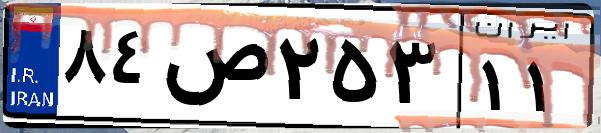1: (475, 38, 525, 113), (525, 38, 570, 115)
2: (270, 28, 330, 110)
3: (385, 28, 445, 110)
4: (110, 28, 158, 98)
5: (330, 28, 385, 110)
8: (57, 26, 110, 100)
ص: (158, 20, 270, 120)
